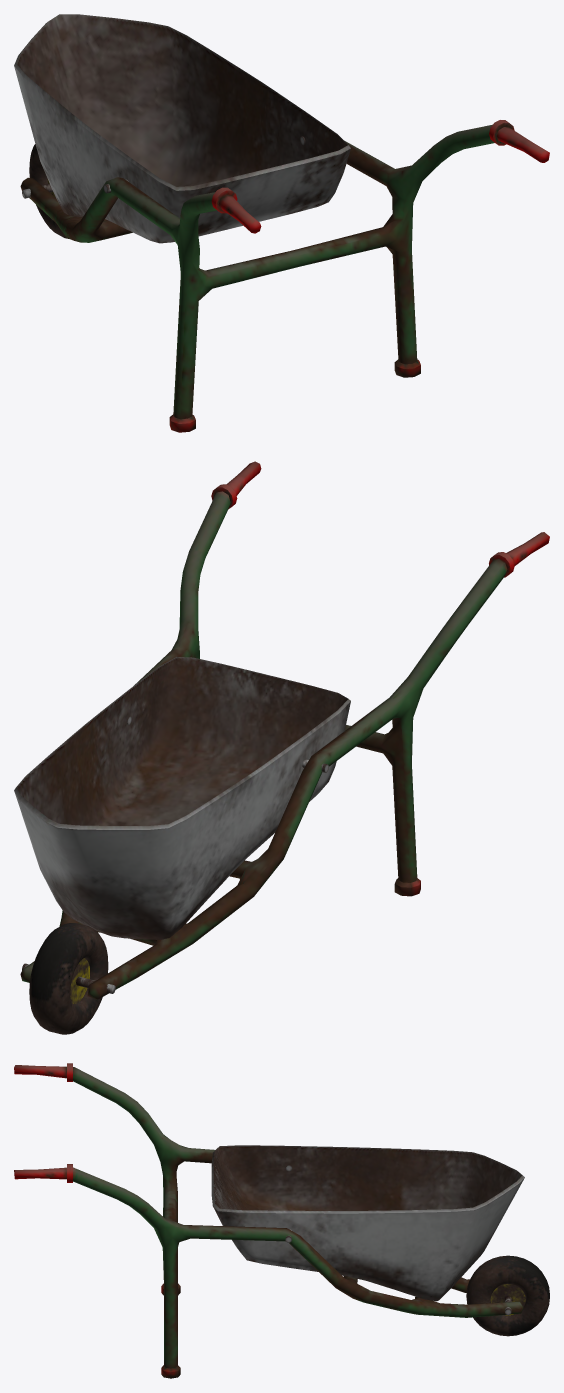
The picture shows the model from 3 angles, top to bottom: view 1: azimuth 30°, elevation 25°; view 2: azimuth 150°, elevation 25°; view 3: azimuth 270°, elevation 25°; orthographic projection. The views are drawn at different scales.
Visible parts, largest first — view 1: Garden_cart; view 2: Garden_cart; view 3: Garden_cart.
Part boxes in pixels (x1=…): Garden_cart: x1=14, y1=14, x2=549, y2=432; Garden_cart: x1=14, y1=461, x2=549, y2=1034; Garden_cart: x1=14, y1=1063, x2=549, y2=1378.
Size of the model in its own units: 464 by 437 by 962.
1 material, 1 textured.
